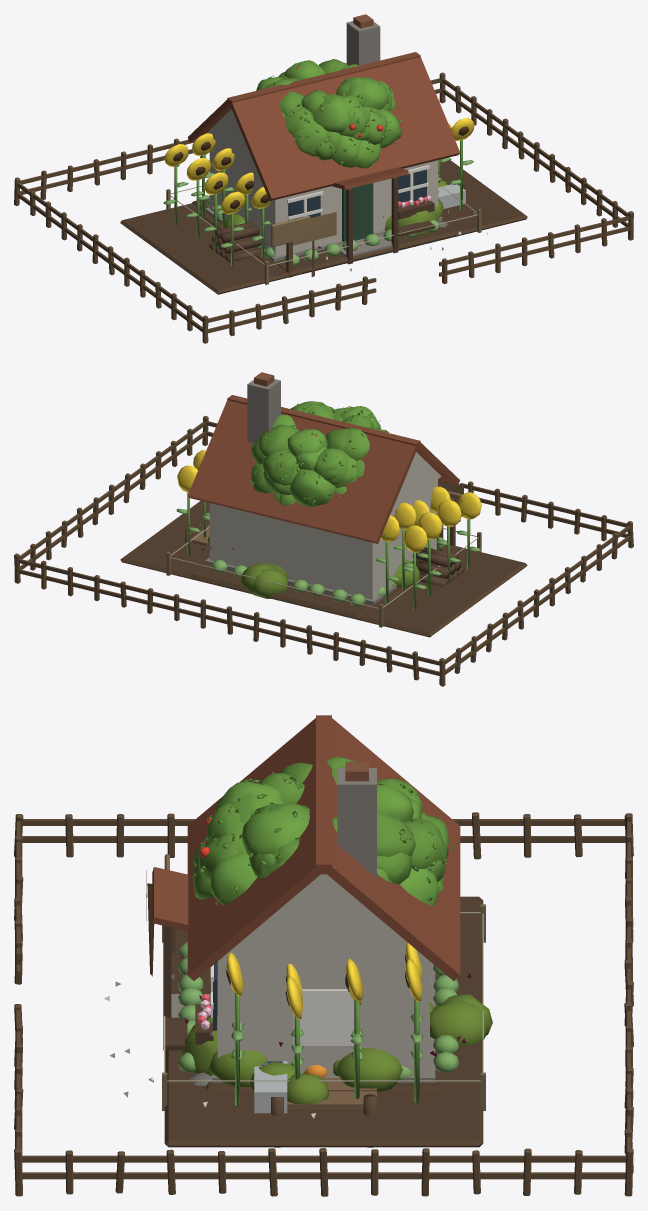
Rendered from village.glb.
The picture shows the model from 3 angles, top to bottom: view 1: azimuth 30°, elevation 25°; view 2: azimuth 150°, elevation 25°; view 3: azimuth 270°, elevation 25°; orthographic projection. The views are drawn at different scales.
Parts seen in each view (by area): view 1: farmhouse, pasture, wheat_field, sunflowers, tree_apple, tree_c, veg_patch_sq, plot_sale, tree_a, plot_empty, tree_b, pasture_shelter; view 2: farmhouse, pasture, wheat_field, sunflowers, tree_a, tree_b, veg_patch_sq, tree_c, plot_sale, plot_empty, tree_apple; view 3: farmhouse, pasture, wheat_field, plot_sale, veg_patch_sq, tree_apple, sunflowers, tree_a, tree_c, tree_b, dock, plot_empty (+2 smaller).
Boxes of the visible parts, x1=… form: farmhouse: x1=187, y1=14, x2=460, y2=264; pasture: x1=14, y1=72, x2=633, y2=343; wheat_field: x1=120, y1=160, x2=527, y2=294; sunflowers: x1=163, y1=118, x2=474, y2=266; tree_apple: x1=280, y1=66, x2=396, y2=168; tree_c: x1=274, y1=64, x2=401, y2=167; veg_patch_sq: x1=192, y1=198, x2=456, y2=275; plot_sale: x1=223, y1=180, x2=487, y2=276; tree_a: x1=264, y1=60, x2=380, y2=149; plot_empty: x1=166, y1=186, x2=481, y2=284; tree_b: x1=256, y1=59, x2=391, y2=113; pasture_shelter: x1=438, y1=184, x2=465, y2=209; farmhouse: x1=187, y1=372, x2=463, y2=604; pasture: x1=14, y1=415, x2=633, y2=686; wheat_field: x1=120, y1=501, x2=527, y2=637; sunflowers: x1=176, y1=450, x2=481, y2=610; tree_a: x1=250, y1=404, x2=388, y2=505; tree_b: x1=251, y1=404, x2=364, y2=507; veg_patch_sq: x1=191, y1=537, x2=455, y2=618; tree_c: x1=252, y1=404, x2=389, y2=495; plot_sale: x1=191, y1=480, x2=463, y2=598; plot_empty: x1=166, y1=490, x2=481, y2=627; tree_apple: x1=290, y1=401, x2=382, y2=482; farmhouse: x1=152, y1=715, x2=460, y2=1082; pasture: x1=14, y1=812, x2=633, y2=1196; wheat_field: x1=164, y1=896, x2=483, y2=1147; plot_sale: x1=104, y1=870, x2=492, y2=1118; veg_patch_sq: x1=165, y1=941, x2=482, y2=1085; tree_apple: x1=192, y1=762, x2=379, y2=899; sunflowers: x1=226, y1=943, x2=423, y2=1106; tree_a: x1=216, y1=756, x2=446, y2=905; tree_c: x1=193, y1=765, x2=445, y2=905; tree_b: x1=224, y1=778, x2=453, y2=893; dock: x1=271, y1=1078, x2=376, y2=1147; plot_empty: x1=162, y1=854, x2=485, y2=1110.
Size of the model in its own units: 6.07 by 2.68 by 4.67.
